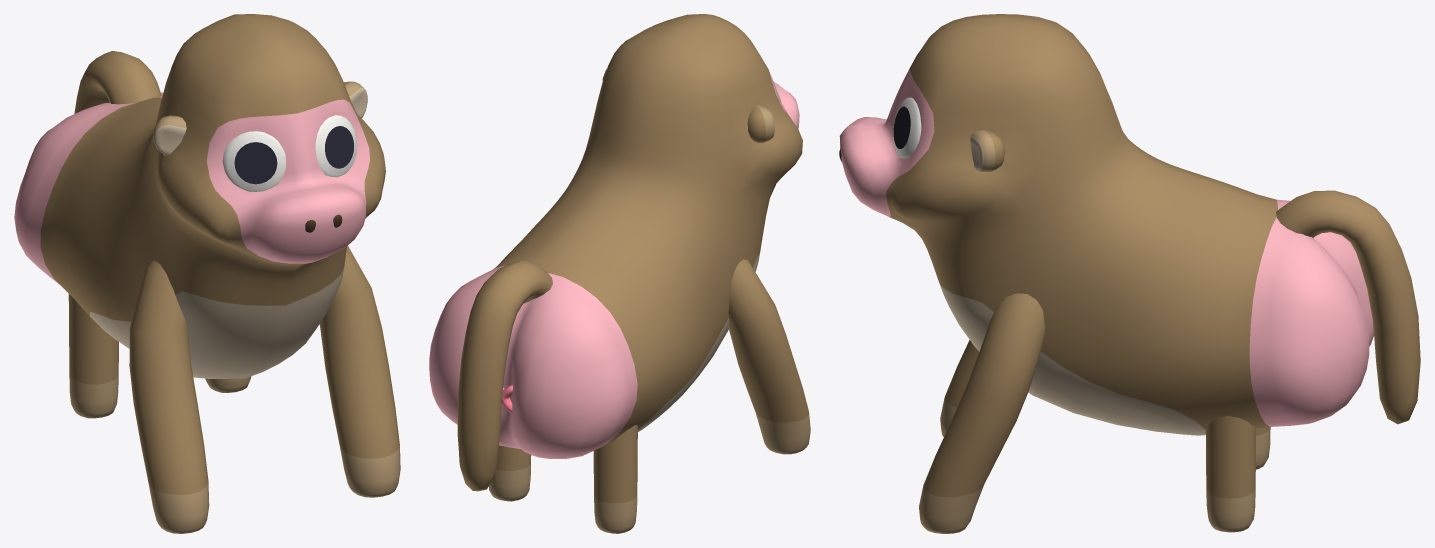
File: Baboon.glb
The picture shows the model from 3 angles, left to right: view 1: azimuth 30°, elevation 25°; view 2: azimuth 150°, elevation 25°; view 3: azimuth 270°, elevation 25°; orthographic projection. The views are drawn at different scales.
Visible parts, largest first — view 1: Baboon; view 2: Baboon; view 3: Baboon.
Part boxes in pixels (x1,y1,x2,y2): Baboon: (14,14,400,533); Baboon: (429,14,810,533); Baboon: (839,14,1420,533).
Bounding box in the file's own units: 1.35 × 2.34 × 2.64.
Materials: 1 (1 with a texture image).
